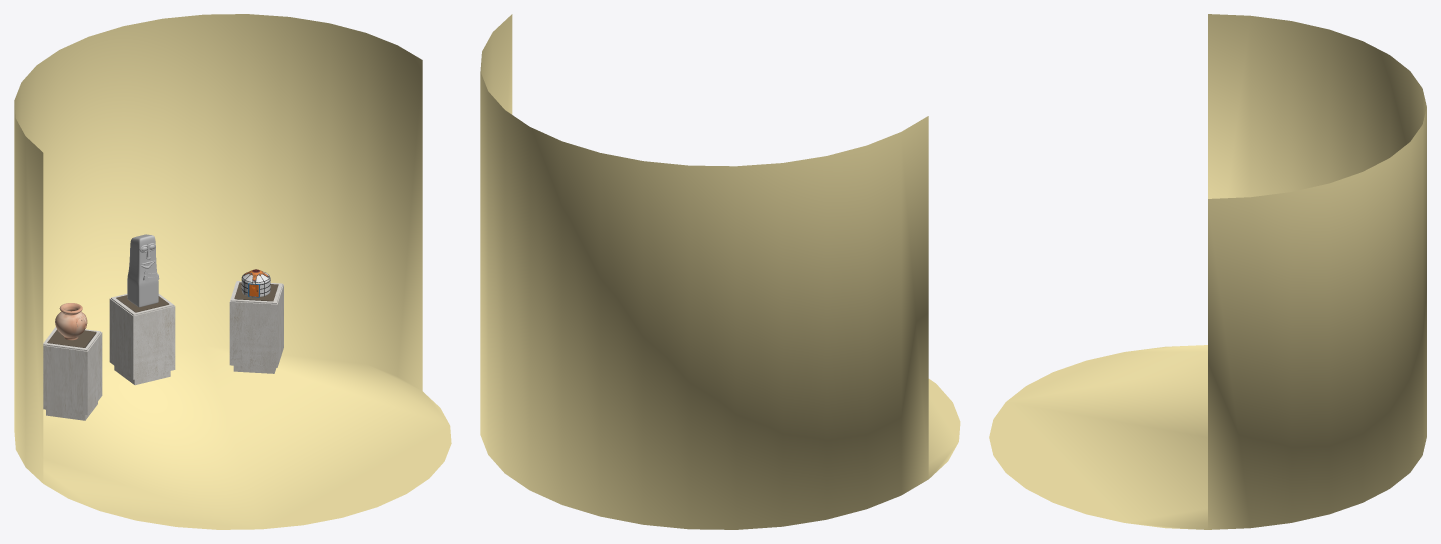
File: table.glb
3 renders of one model, left to right at view 1: azimuth 30°, elevation 25°; view 2: azimuth 150°, elevation 25°; view 3: azimuth 270°, elevation 25°, orthographic. The views are drawn at different scales.
Parts seen in each view (by area): view 1: 柱体.001, fsdfsd31233210040, fsdfsd31233210040.002, fsdfsd31233210040.003, Cube.001, 柱体; view 2: 柱体.001; view 3: 柱体.001.
Boxes of the visible parts, x1,y1,x2,y2 form: 柱体.001: (14, 14, 451, 529); fsdfsd31233210040: (109, 294, 175, 385); fsdfsd31233210040.002: (43, 327, 102, 420); fsdfsd31233210040.003: (229, 281, 283, 373); Cube.001: (127, 234, 159, 307); 柱体: (55, 303, 87, 340); 柱体.001: (480, 14, 960, 529); 柱体.001: (989, 14, 1426, 529).
Size of the model in its own units: 8.08 by 6.75 by 8.08.
12 materials, 4 textured.
